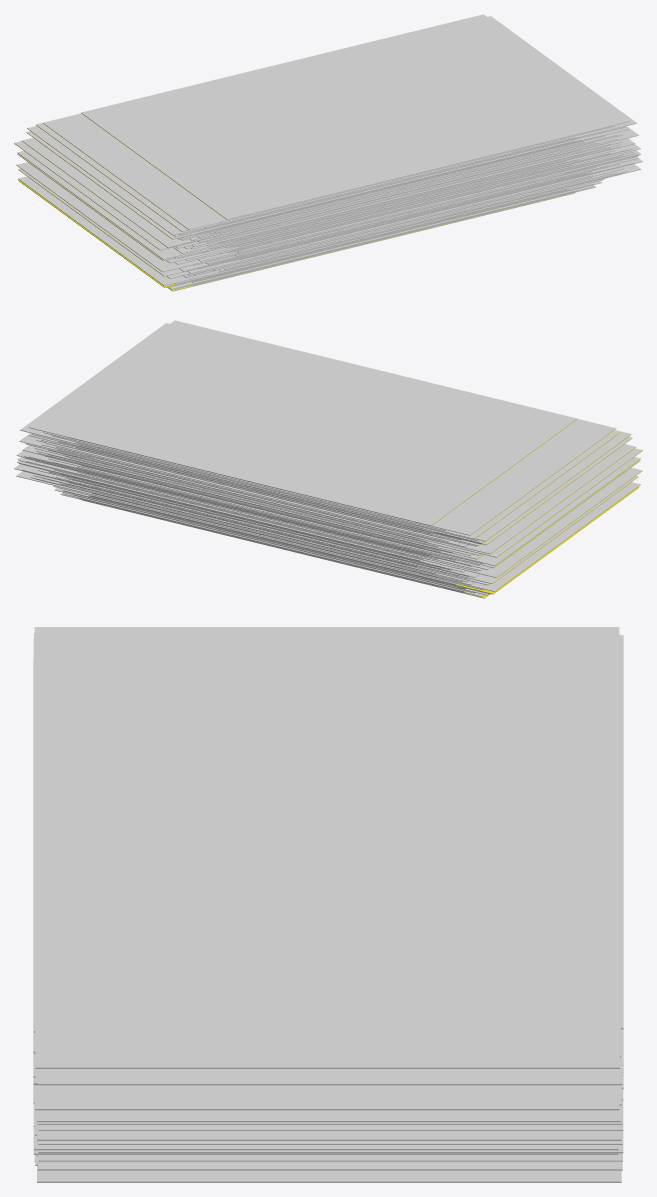
Rendered from SM_Env_Invoices.fbx.
3 views of the same model, one above another, from view 1: azimuth 30°, elevation 25°; view 2: azimuth 150°, elevation 25°; view 3: azimuth 270°, elevation 25° (orthographic). The views are drawn at different scales.
Parts seen in each view (by area): view 1: Invoices; view 2: Invoices; view 3: Invoices.
Boxes of the visible parts, box(x1,y1,x2,y2) form: Invoices: box(14, 14, 642, 291); Invoices: box(14, 320, 642, 598); Invoices: box(33, 627, 623, 1182).
Size of the model in its own units: 0.1785 by 0.021 by 0.0945.
